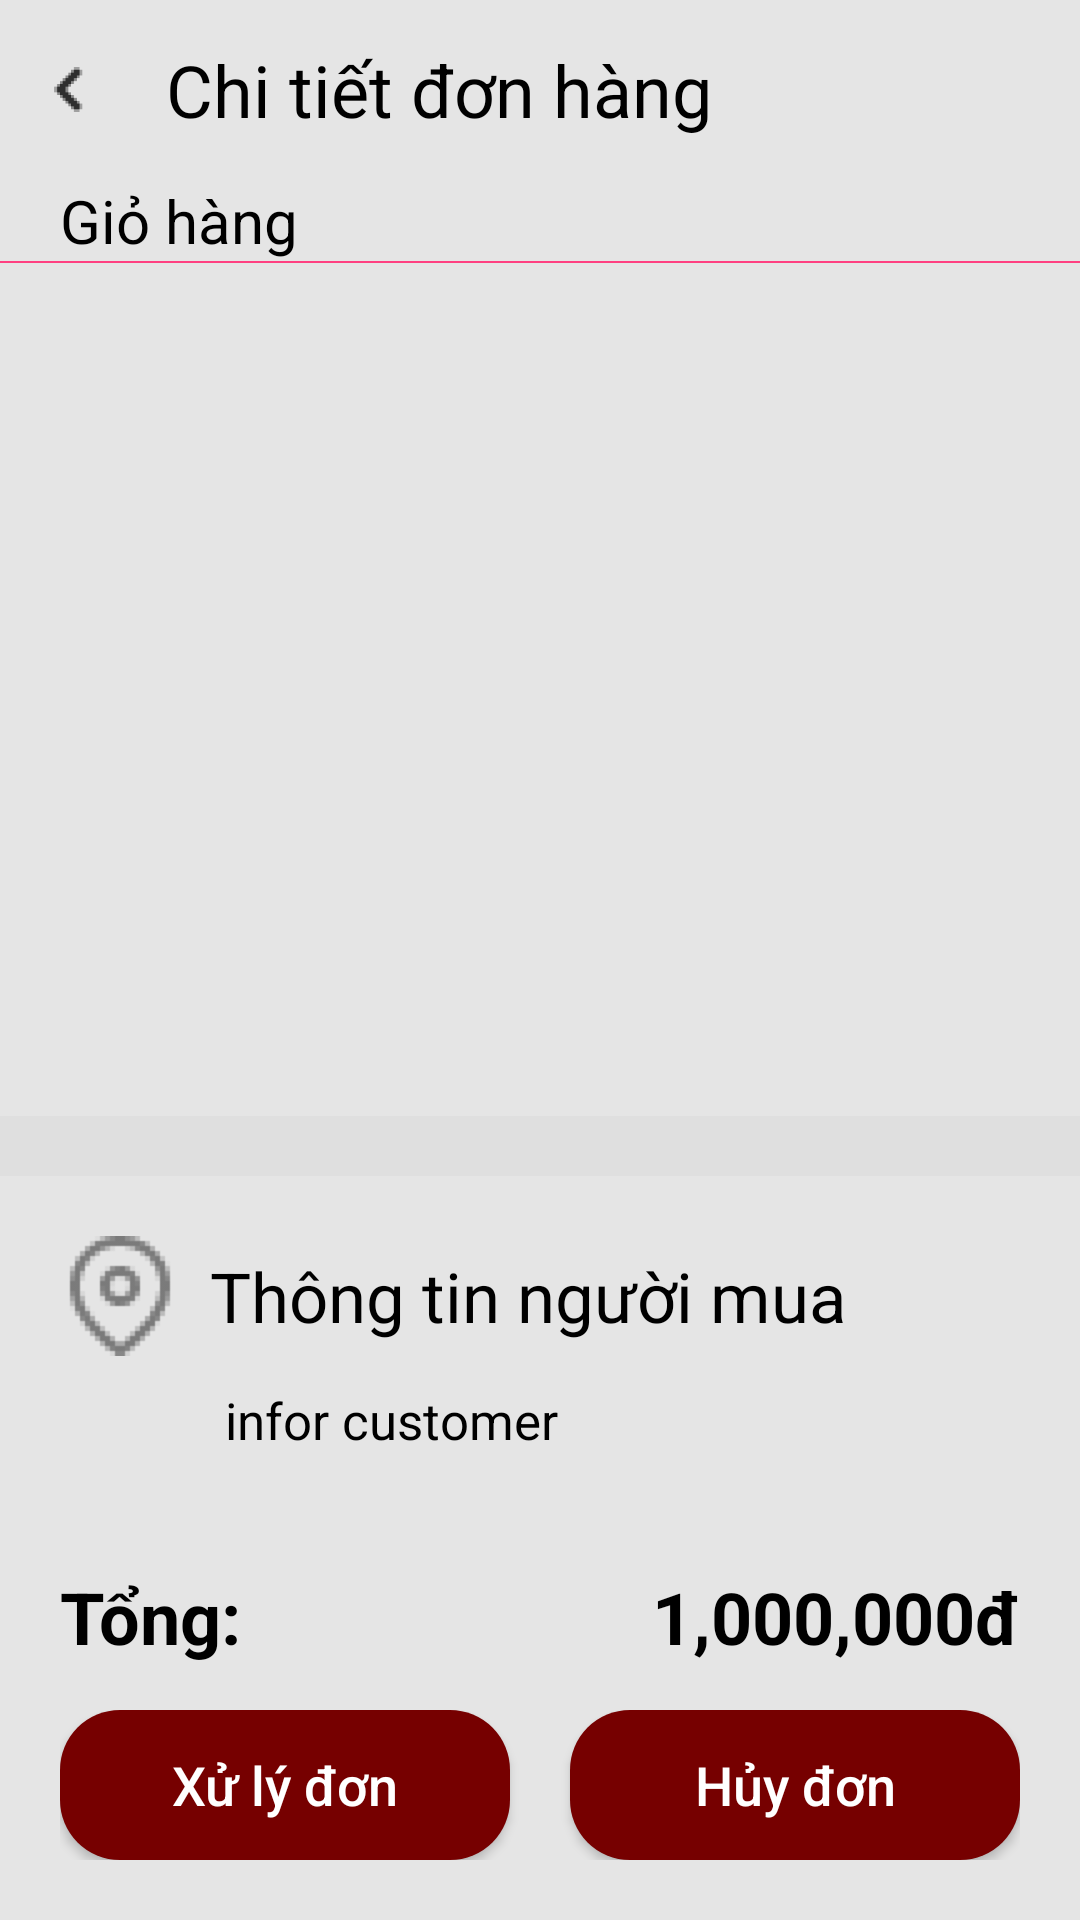

Screen size 1080*1920. Icon name, then its box in pixels as (x1, y1, x2, y2):
back: (54, 67, 82, 112)
loc: (70, 1236, 170, 1356)
